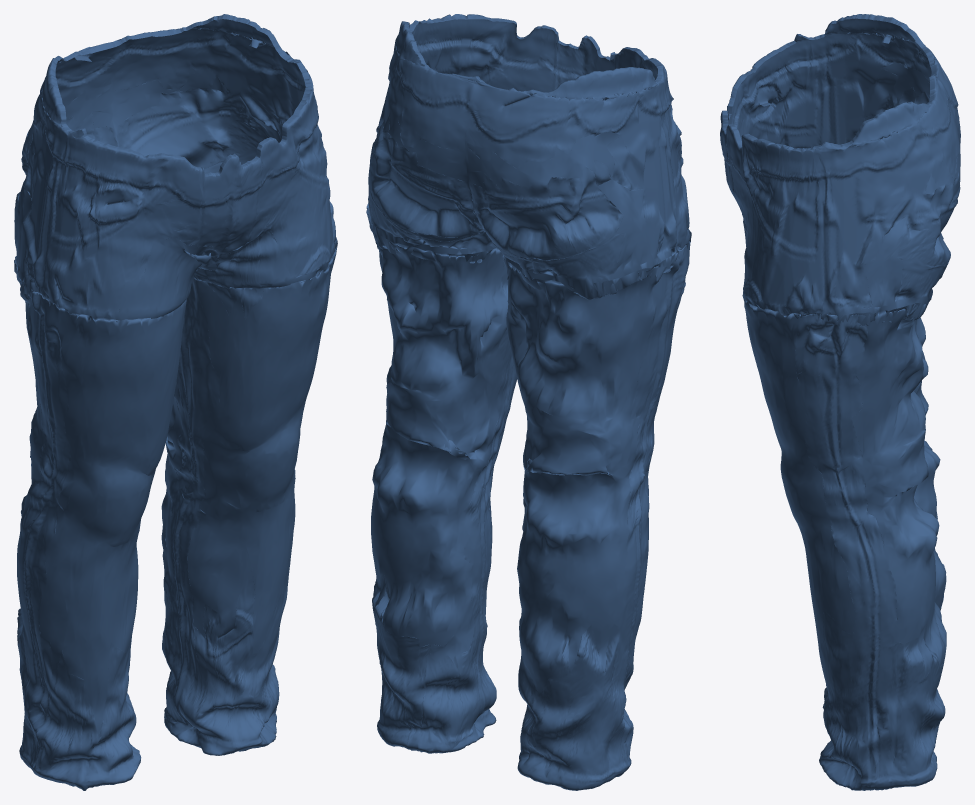
File: bottom_jeans.glb
3 views of the same model, side by side, from view 1: azimuth 30°, elevation 25°; view 2: azimuth 150°, elevation 25°; view 3: azimuth 270°, elevation 25° (orthographic). The views are drawn at different scales.
Parts seen in each view (by area): view 1: bottom_jeans; view 2: bottom_jeans; view 3: bottom_jeans.
Part boxes in pixels (x1,y1,x2,y2): bottom_jeans: (14,14,337,790); bottom_jeans: (366,14,691,790); bottom_jeans: (720,14,960,790).
Bounding box in the file's own units: 0.3617 × 0.831 × 0.2671.
Materials: 1 (1 with a texture image).
